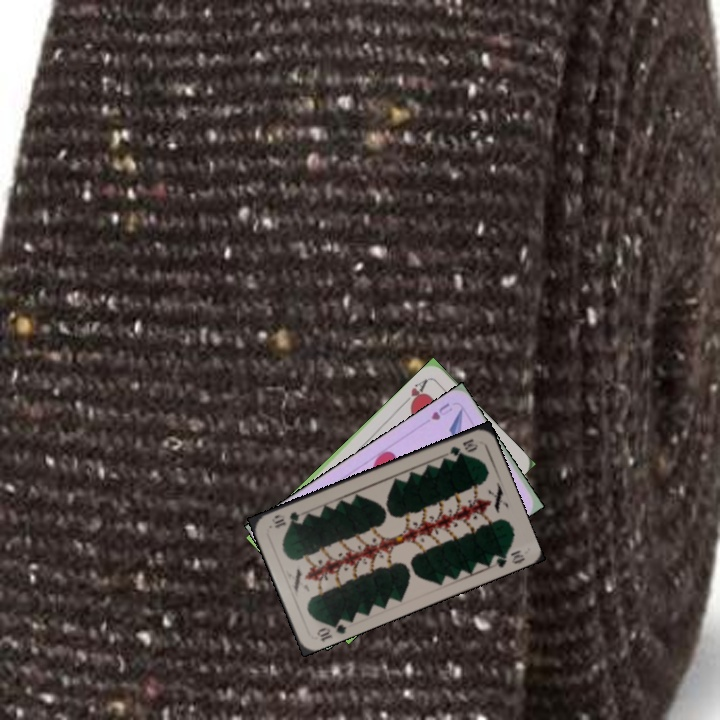G10: (441, 435, 481, 462), (313, 614, 349, 643)
HA: (399, 374, 432, 410)
HU: (427, 399, 455, 423)
